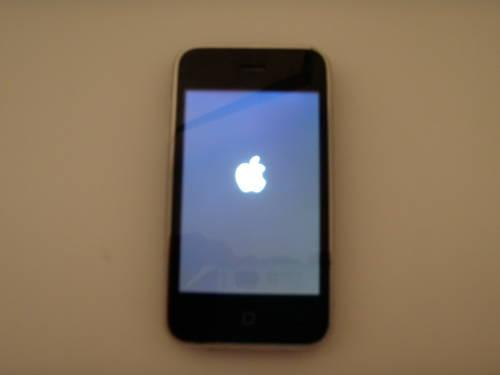phone: (164, 45, 336, 348)
